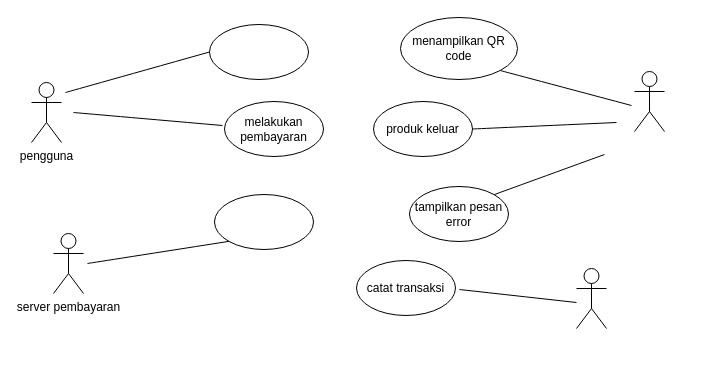
Image size: 712x367. Some labels were removed from this diagram. The shapes that lost their labels are listed below. From the top down, each one's centre as x and y in pixels, then its label:
the point at 258,52: memilih produk
the point at 649,101: vending machine
the point at 264,222: verifikasi pembayaran
the point at 591,298: database
